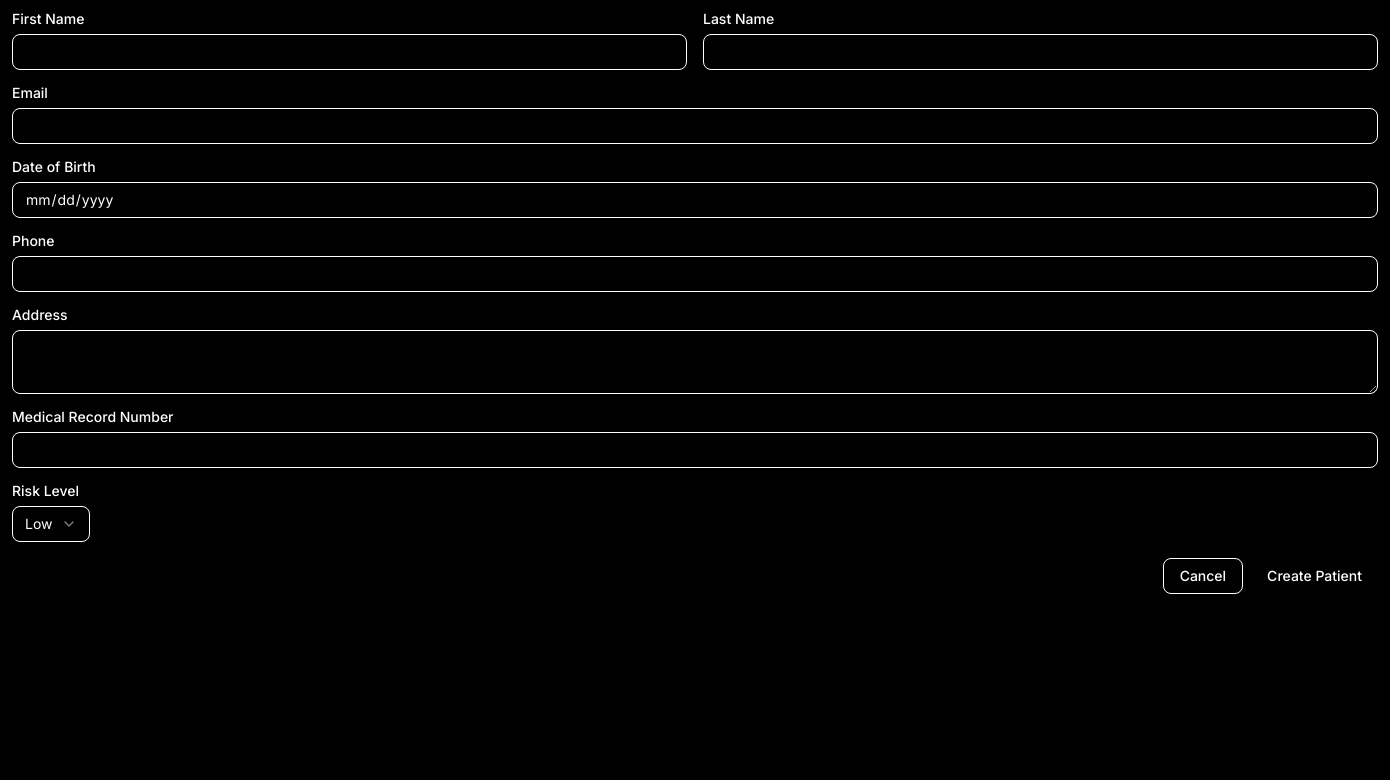
Test: PatientForm › validates required fields
// Click submit without filling fields
What coordinates should you click on to do the following:
click the button "Create Patient"
I would click on:
 (1315, 576)
Its box is [1251, 558, 1378, 594].
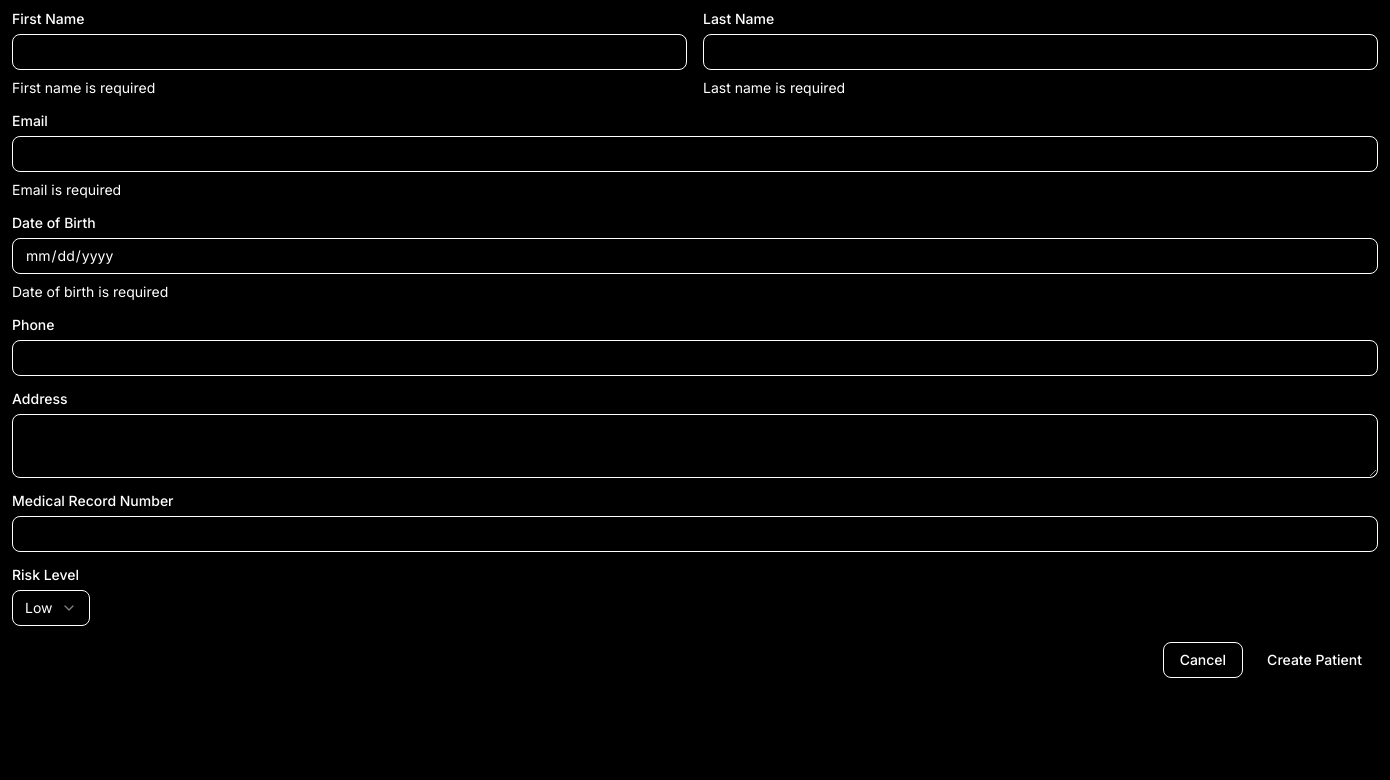
Expected: the text "First name is required" is shown, [12, 79, 155, 96]
Expected: the text "Last name is required" is shown, [703, 79, 845, 96]
Expected: the text "Email is required" is shown, [12, 181, 121, 198]
